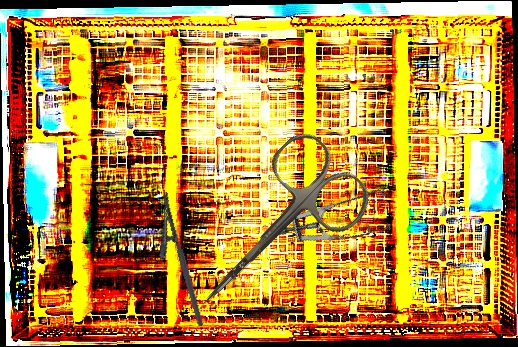Iris Scissors: (163, 124, 380, 341)
Needle Holder: (144, 191, 204, 332)
Speculum: (271, 153, 405, 276)
